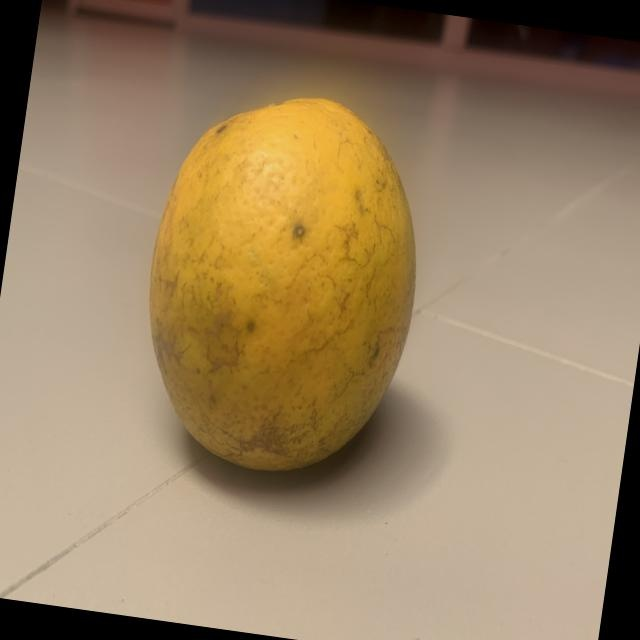agrume: (120, 73, 452, 514)
